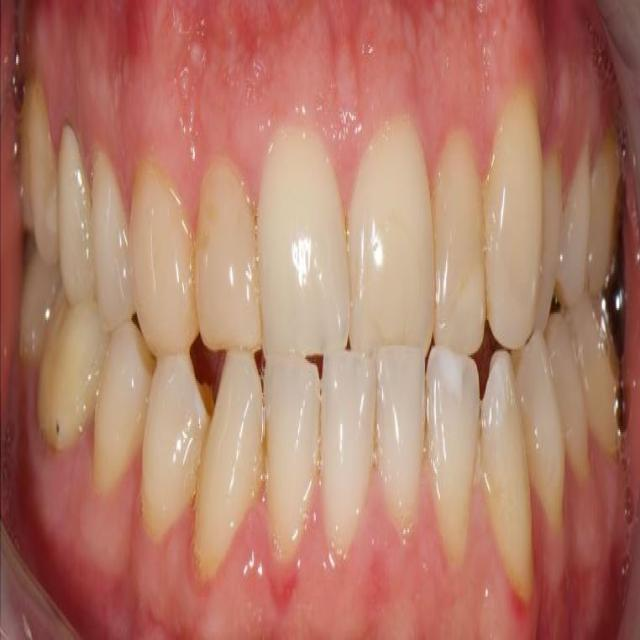1st Molar: (39, 291, 106, 453), (570, 289, 622, 461), (20, 79, 58, 261), (589, 139, 621, 300)
1st Premolar: (141, 353, 207, 542), (516, 332, 565, 522), (92, 152, 135, 334), (539, 161, 560, 326)
2nd Molar: (18, 245, 60, 368)
2nd Premolar: (93, 324, 153, 493), (546, 316, 590, 471), (59, 128, 94, 302), (558, 155, 594, 308)
Canine: (193, 351, 264, 589), (485, 94, 543, 349), (480, 351, 535, 599), (129, 165, 198, 355)
Central Incisor: (256, 125, 350, 357), (347, 112, 436, 351), (321, 353, 377, 565), (375, 348, 424, 526)
Lateral Incisor: (194, 155, 260, 351), (425, 349, 481, 569), (264, 357, 322, 567), (434, 132, 486, 355)
